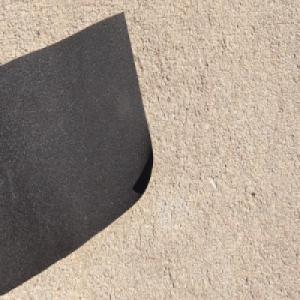PaintChip: (0, 19, 154, 288)
